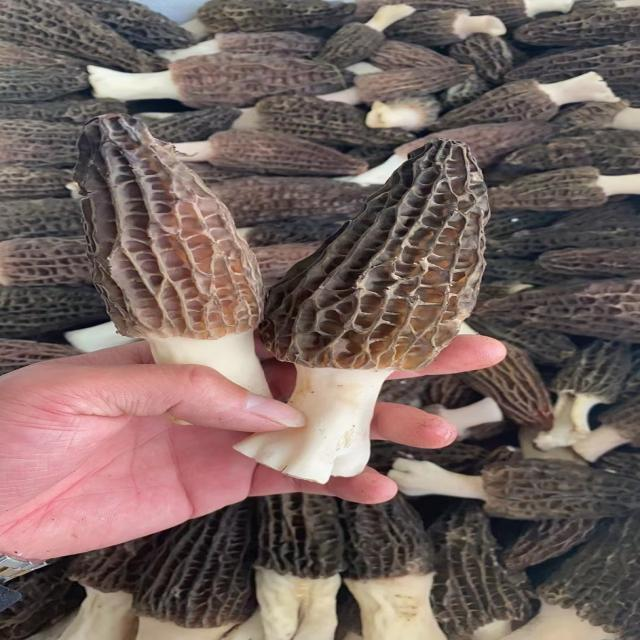Morchella esculenta: (238, 144, 492, 481), (80, 111, 268, 405)
